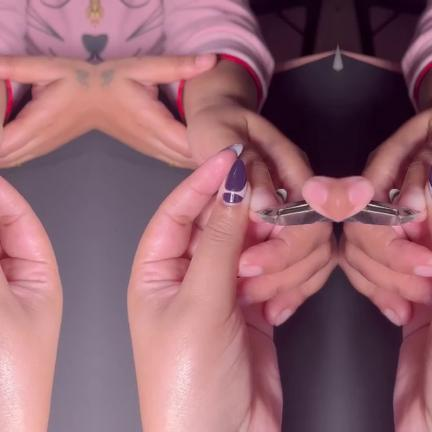Nail: (222, 159, 246, 204), (249, 186, 278, 212), (396, 186, 425, 212), (303, 181, 327, 205), (347, 181, 371, 205), (275, 309, 291, 326), (383, 309, 399, 326), (236, 266, 260, 277), (194, 53, 211, 68), (235, 294, 252, 308), (414, 266, 432, 277), (428, 162, 432, 200), (422, 294, 432, 308)
